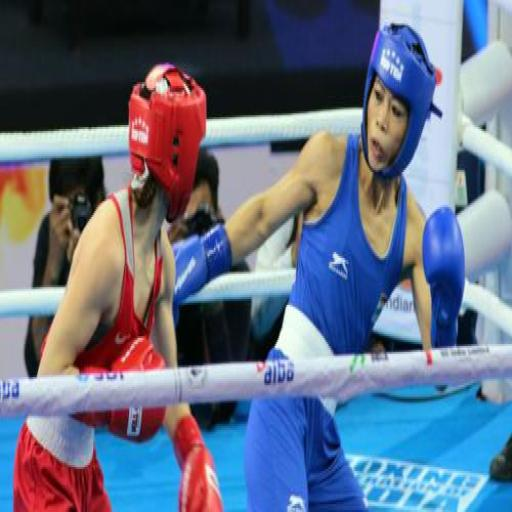boxing: (168, 20, 466, 508), (11, 61, 223, 510)
